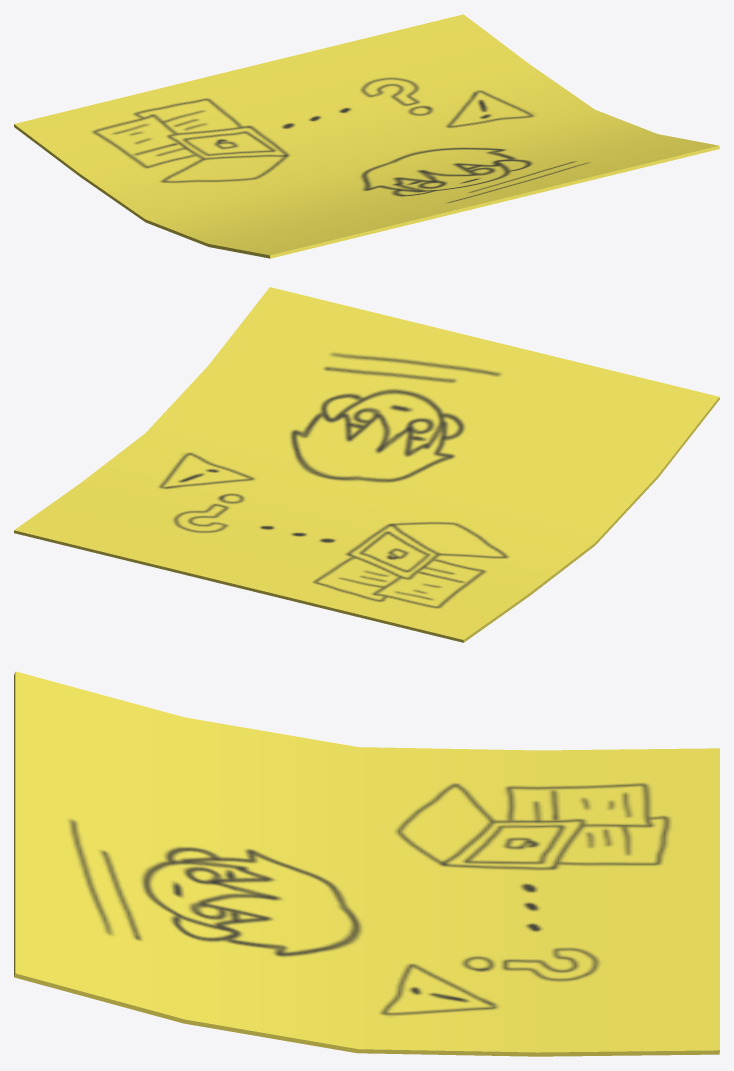
The model's file is SM_Prop_Memo.fbx.
3 views of the same model, one above another, from view 1: azimuth 30°, elevation 25°; view 2: azimuth 150°, elevation 25°; view 3: azimuth 270°, elevation 25° (orthographic). The views are drawn at different scales.
Parts seen in each view (by area): view 1: SM_Prop_Memo; view 2: SM_Prop_Memo; view 3: SM_Prop_Memo.
Boxes of the visible parts, left/top/right/bottom form: SM_Prop_Memo: left=14, top=14, right=719, bottom=258; SM_Prop_Memo: left=14, top=287, right=719, bottom=642; SM_Prop_Memo: left=14, top=671, right=719, bottom=1056.
Bounding box in the file's own units: 6.47 × 0.8313 × 6.39.
1 material, 1 textured.
